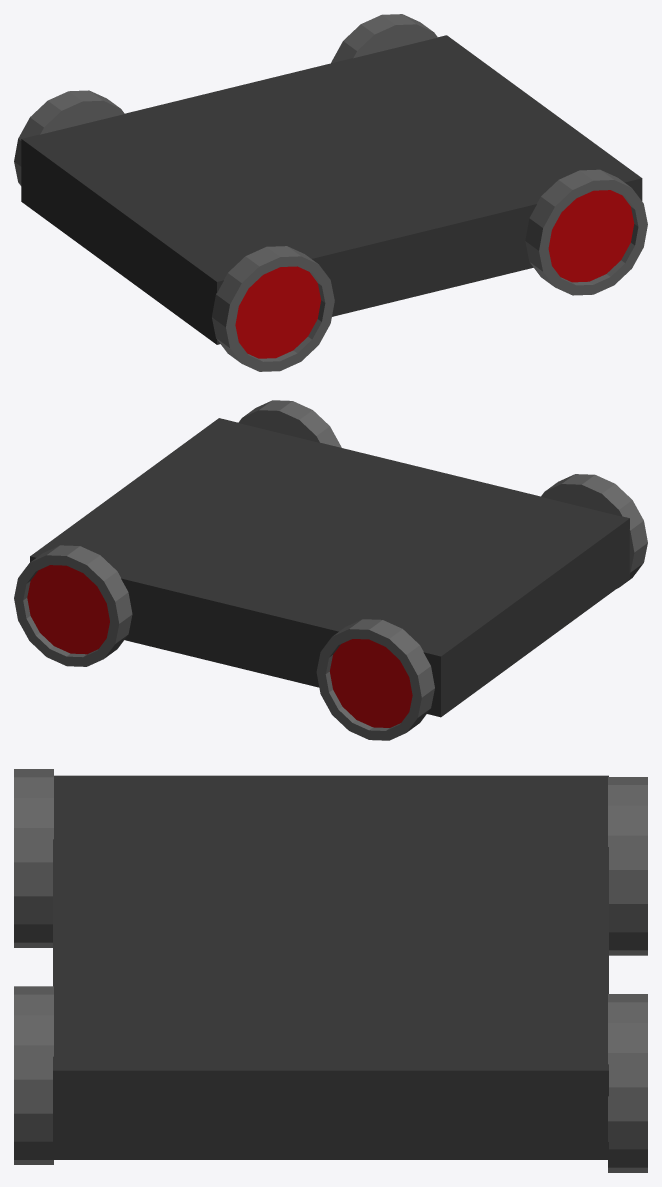
The model's file is car.fbx.
3 renders of one model, top to bottom at view 1: azimuth 30°, elevation 25°; view 2: azimuth 150°, elevation 25°; view 3: azimuth 270°, elevation 25°, orthographic. The views are drawn at different scales.
Parts seen in each view (by area): view 1: Cube.004, Wheel-Front-Left.001, Wheel-Back-Left.001, Wheel-Front-Right.001, Wheel-Back-Right.001; view 2: Cube.004, Wheel-Front-Right.001, Wheel-Back-Right.001, Wheel-Front-Left.001, Wheel-Back-Left.001; view 3: Cube.004, Wheel-Back-Right.001, Wheel-Back-Left.001, Wheel-Front-Left.001, Wheel-Front-Right.001.
Part boxes in pixels (x1,y1,x2,y2): Cube.004: [21, 35, 642, 344]; Wheel-Front-Left.001: [212, 246, 334, 371]; Wheel-Back-Left.001: [525, 169, 647, 295]; Wheel-Front-Right.001: [14, 90, 124, 185]; Wheel-Back-Right.001: [331, 14, 437, 63]; Cube.004: [30, 418, 629, 717]; Wheel-Front-Right.001: [316, 619, 434, 740]; Wheel-Back-Right.001: [14, 545, 132, 666]; Wheel-Front-Left.001: [541, 474, 647, 588]; Wheel-Back-Left.001: [238, 400, 341, 447]; Cube.004: [53, 775, 608, 1159]; Wheel-Back-Right.001: [608, 994, 647, 1172]; Wheel-Back-Left.001: [14, 986, 53, 1164]; Wheel-Front-Left.001: [14, 769, 53, 947]; Wheel-Front-Right.001: [608, 777, 647, 955].
Size of the model in its own units: 90.7 by 22.82 by 80.86.
